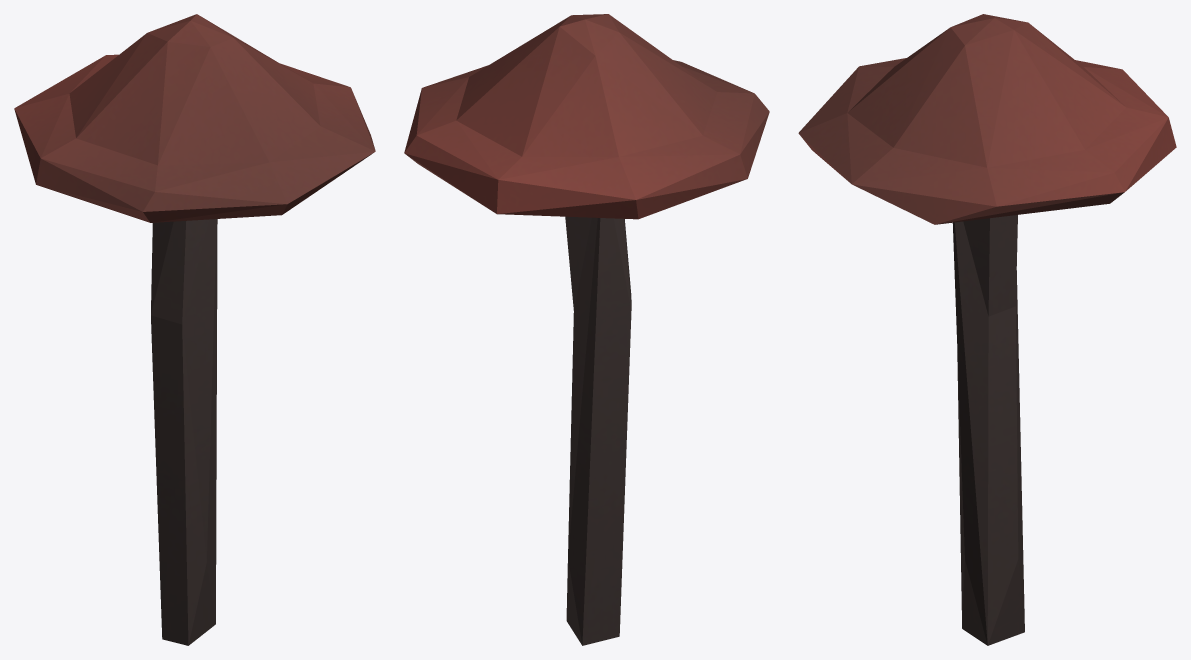
The model's file is Mush_1.fbx.
3 views of the same model, side by side, from view 1: azimuth 30°, elevation 25°; view 2: azimuth 150°, elevation 25°; view 3: azimuth 270°, elevation 25° (orthographic).
Parts seen in each view (by area): view 1: polySurface1310; view 2: polySurface1310; view 3: polySurface1310.
Boxes of the visible parts, box(x1,y1,x2,y2) form: polySurface1310: box(14, 14, 375, 645); polySurface1310: box(404, 14, 769, 645); polySurface1310: box(798, 14, 1176, 645).
Bounding box in the file's own units: 1.54 × 2.81 × 1.55.
